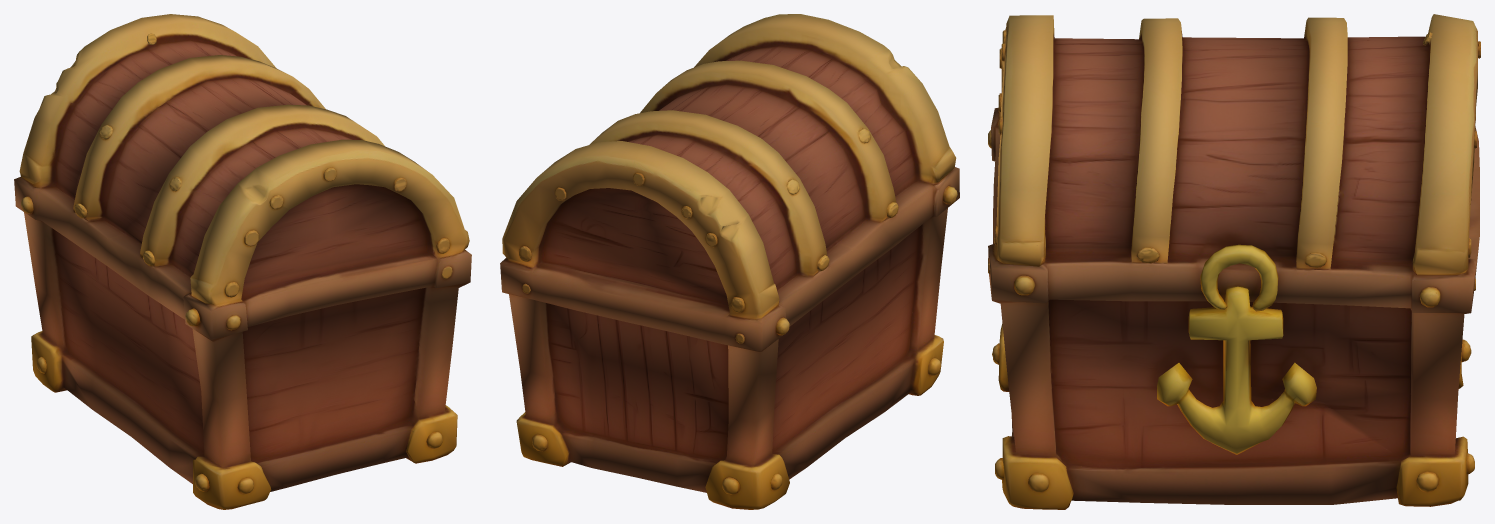
3 renders of one model, left to right at view 1: azimuth 30°, elevation 25°; view 2: azimuth 150°, elevation 25°; view 3: azimuth 270°, elevation 25°, orthographic. The views are drawn at different scales.
Parts seen in each view (by area): view 1: tripo_node_f29af3fb; view 2: tripo_node_f29af3fb; view 3: tripo_node_f29af3fb.
Boxes of the visible parts, left/top/right/bottom form: tripo_node_f29af3fb: left=14, top=14, right=471, bottom=509; tripo_node_f29af3fb: left=500, top=14, right=959, bottom=509; tripo_node_f29af3fb: left=988, top=14, right=1480, bottom=509.
Bounding box in the file's own units: 0.8145 × 0.9043 × 0.998.
1 material, 1 textured.
